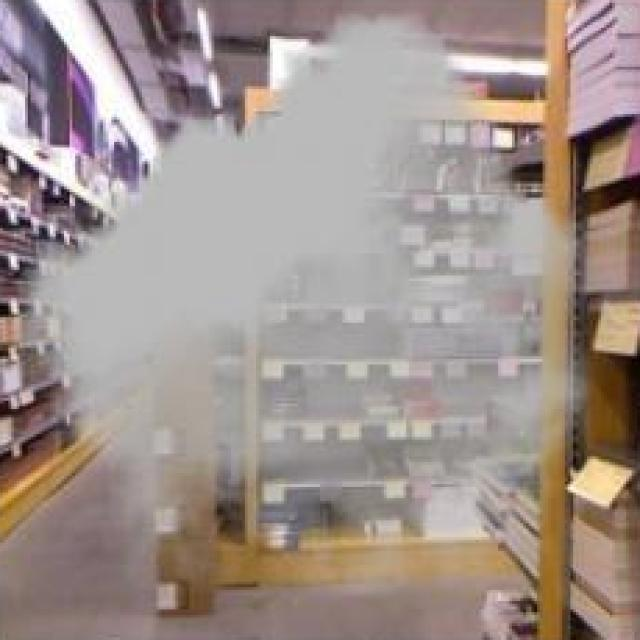fire: (18, 12, 591, 594)
